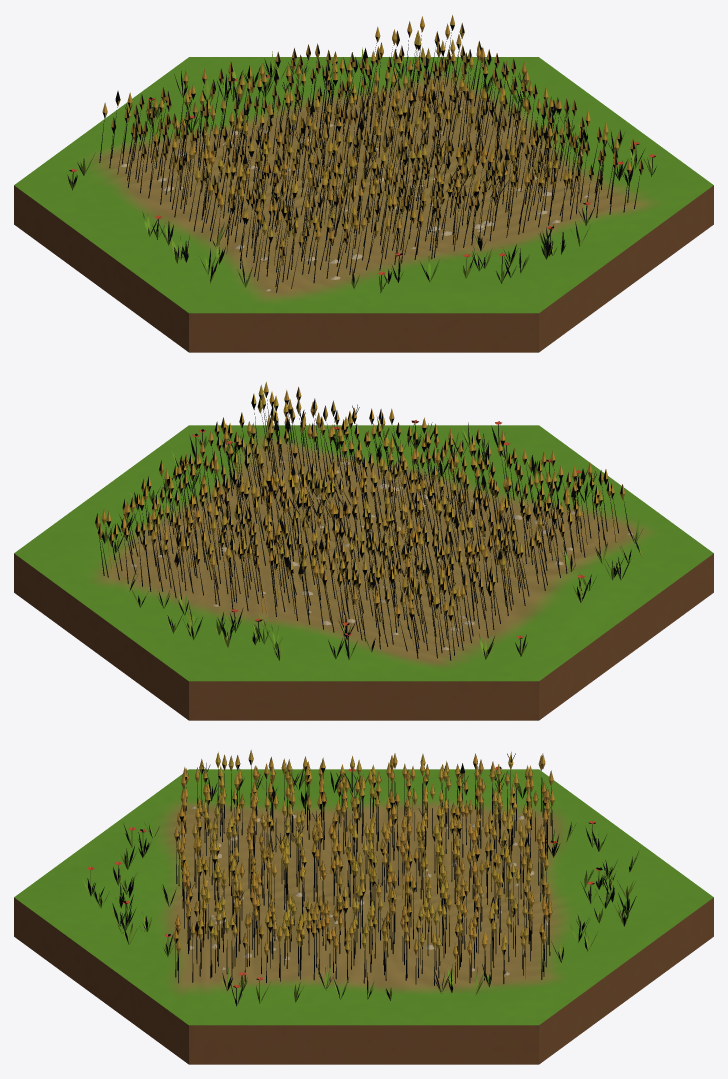
Rendered from SM_CerealNatural_A_Detalle_LOD0.fbx.
3 renders of one model, top to bottom at view 1: azimuth 30°, elevation 25°; view 2: azimuth 150°, elevation 25°; view 3: azimuth 270°, elevation 25°, orthographic.
Parts seen in each view (by area): view 1: SM_CerealNatural_A_Detalle_LOD0; view 2: SM_CerealNatural_A_Detalle_LOD0; view 3: SM_CerealNatural_A_Detalle_LOD0.
Boxes of the visible parts, x1=… form: SM_CerealNatural_A_Detalle_LOD0: x1=14, y1=15, x2=713, y2=352; SM_CerealNatural_A_Detalle_LOD0: x1=14, y1=382, x2=713, y2=720; SM_CerealNatural_A_Detalle_LOD0: x1=14, y1=749, x2=713, y2=1064.
Size of the model in its own units: 1.68 by 0.3439 by 1.94.
Materials: 1 (1 with a texture image).
